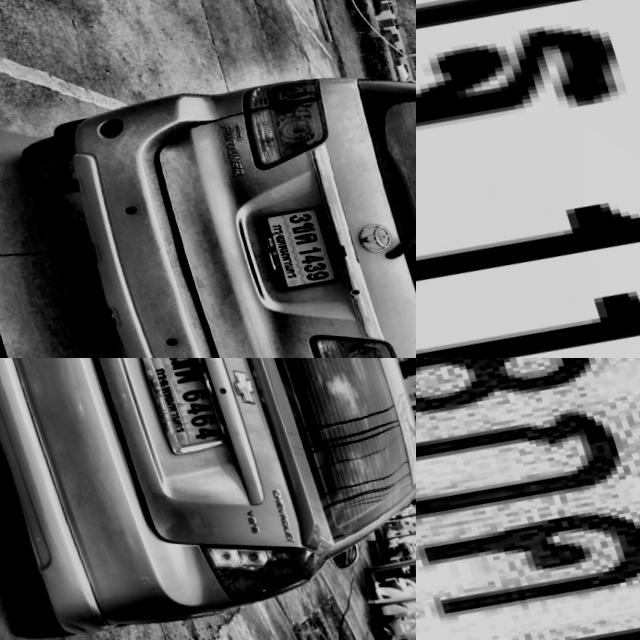license-plate: (416, 0, 640, 358), (416, 358, 640, 640), (243, 194, 354, 299), (121, 358, 228, 459)
